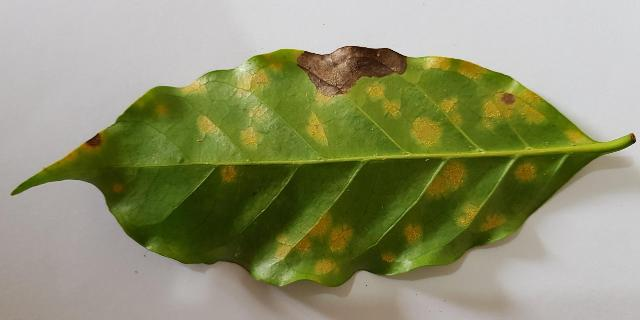cercospora: (285, 46, 411, 116), (275, 212, 351, 260), (482, 77, 546, 128), (54, 130, 105, 163), (424, 159, 466, 198), (411, 117, 441, 146), (237, 69, 269, 94), (458, 59, 490, 80), (439, 98, 462, 126), (306, 113, 327, 143), (477, 211, 506, 231), (420, 56, 456, 71), (458, 203, 480, 227), (514, 162, 536, 182), (238, 128, 259, 148), (178, 78, 206, 93), (315, 258, 340, 274), (404, 222, 421, 243), (198, 117, 218, 133), (222, 165, 236, 181), (248, 107, 266, 119), (381, 252, 395, 263), (568, 131, 582, 142)
